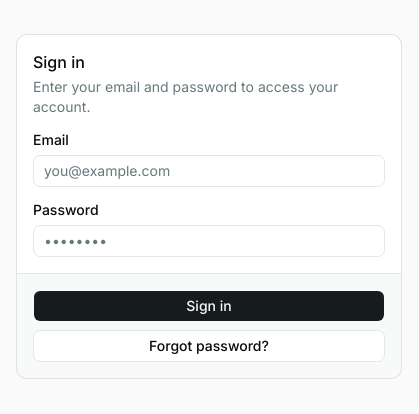
Test: Login page › shows a fallback error when fetch itself throws (server down)
Type "a@b.com" into the field labelled "Email" at (209, 170), box top-left (33, 154), bottom-right (385, 186)
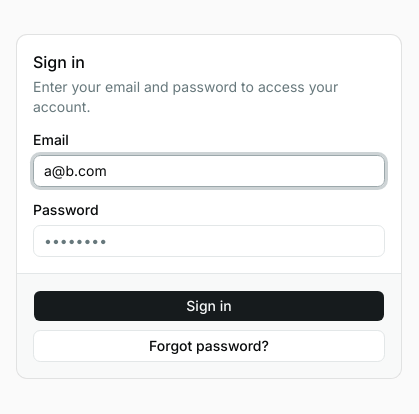
Type "pass" into the password field labelled "Password" at (209, 240), box top-left (33, 224), bottom-right (385, 256)
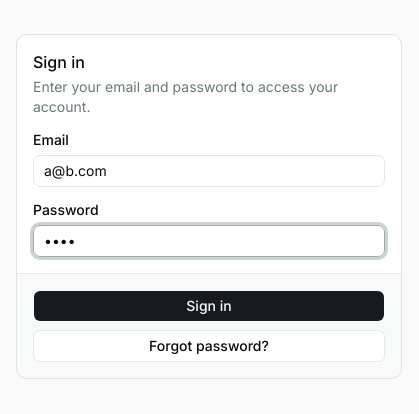
Click the button "Sign in" at (209, 306), box top-left (33, 290), bottom-right (385, 322)
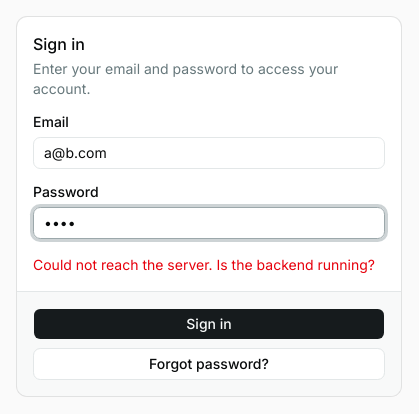
Expected: the text "Could not reach the server. Is the backend running?" is shown, top-left (33, 254), bottom-right (385, 274)
